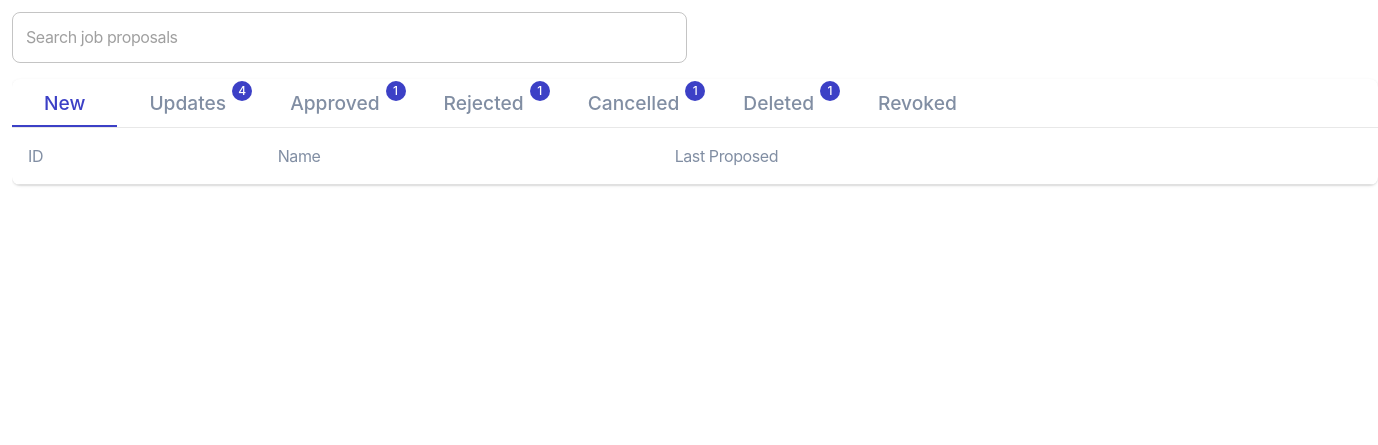
Test: JobProposalsCard › renders the updates job proposals
The width and height of the screenshot is (1378, 445).
expect the element with test id "updates-badge" shows "4": met, box [238, 83, 246, 98]
expect the element with test id "approved-badge" shows "1": met, box [393, 83, 398, 98]
Click the tab "Updates 4": point(188, 103) [117, 79, 258, 127]
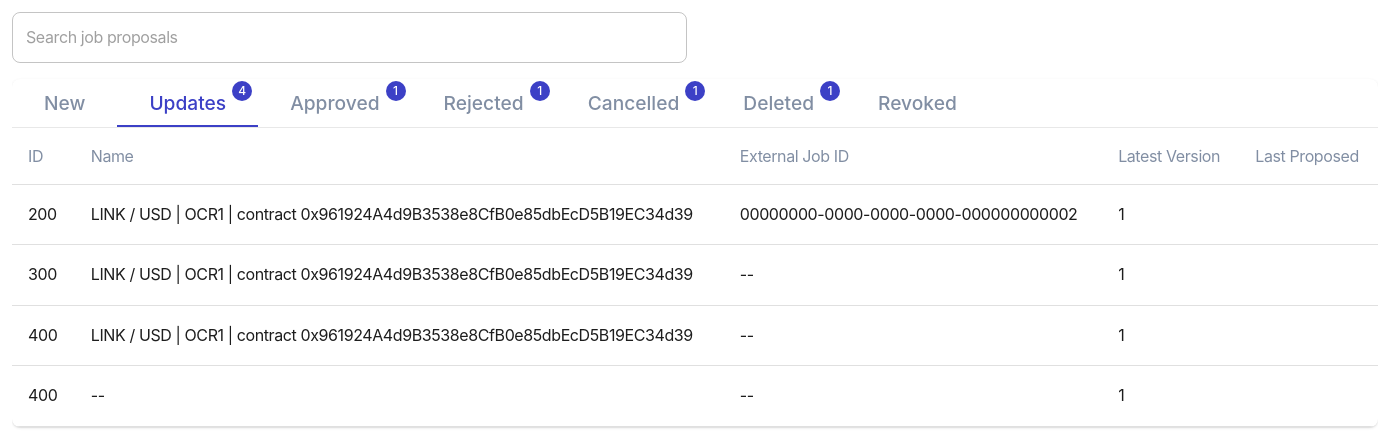
expect the number of rows is 5: met, box [12, 128, 1377, 184]; [12, 184, 1377, 245]; [12, 245, 1377, 305]; [12, 305, 1377, 366]; [12, 366, 1377, 426]
